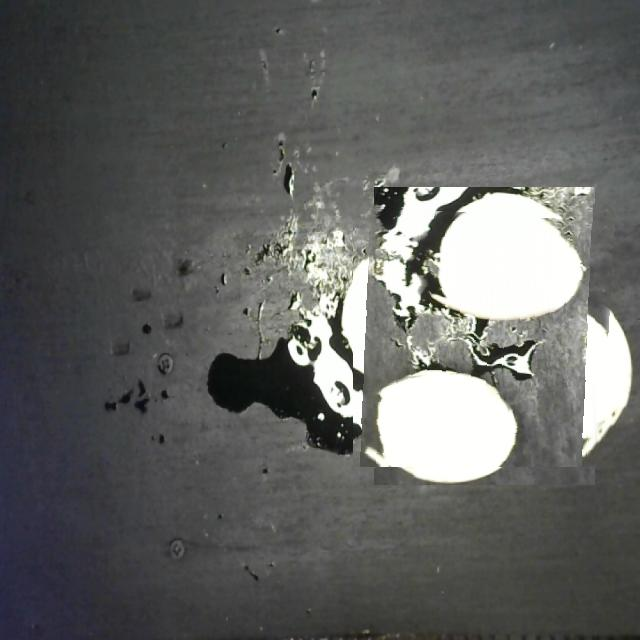biodegradable: (354, 205, 616, 467)
